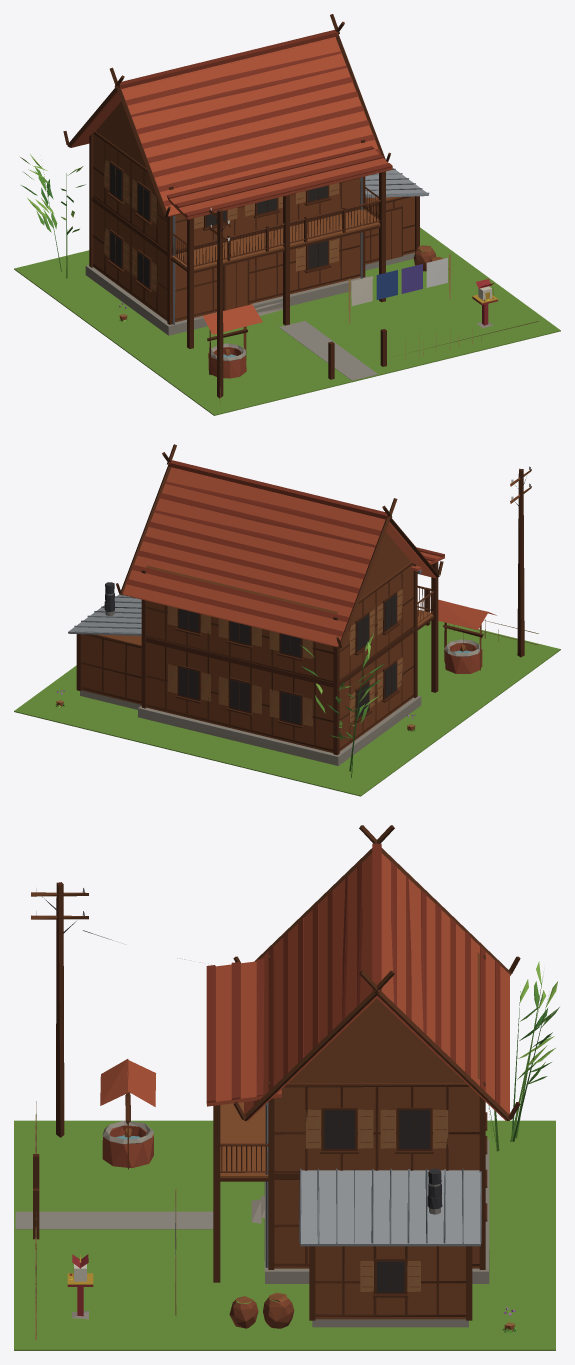
File: home_3.glb
3 views of the same model, one above another, from view 1: azimuth 30°, elevation 25°; view 2: azimuth 150°, elevation 25°; view 3: azimuth 270°, elevation 25° (orthographic). The views are drawn at different scales.
Parts seen in each view (by area): view 1: body, windows; view 2: body, windows; view 3: body, windows.
Part boxes in pixels (x1,y1,x2,y2): body: (14,14,560,415); windows: (110,163,327,287); body: (14,444,560,796); windows: (179,594,396,724); body: (14,825,559,1350); windows: (324,1110,429,1292).
Bounding box in the file's own units: 15.96 × 10.54 × 16.05.
